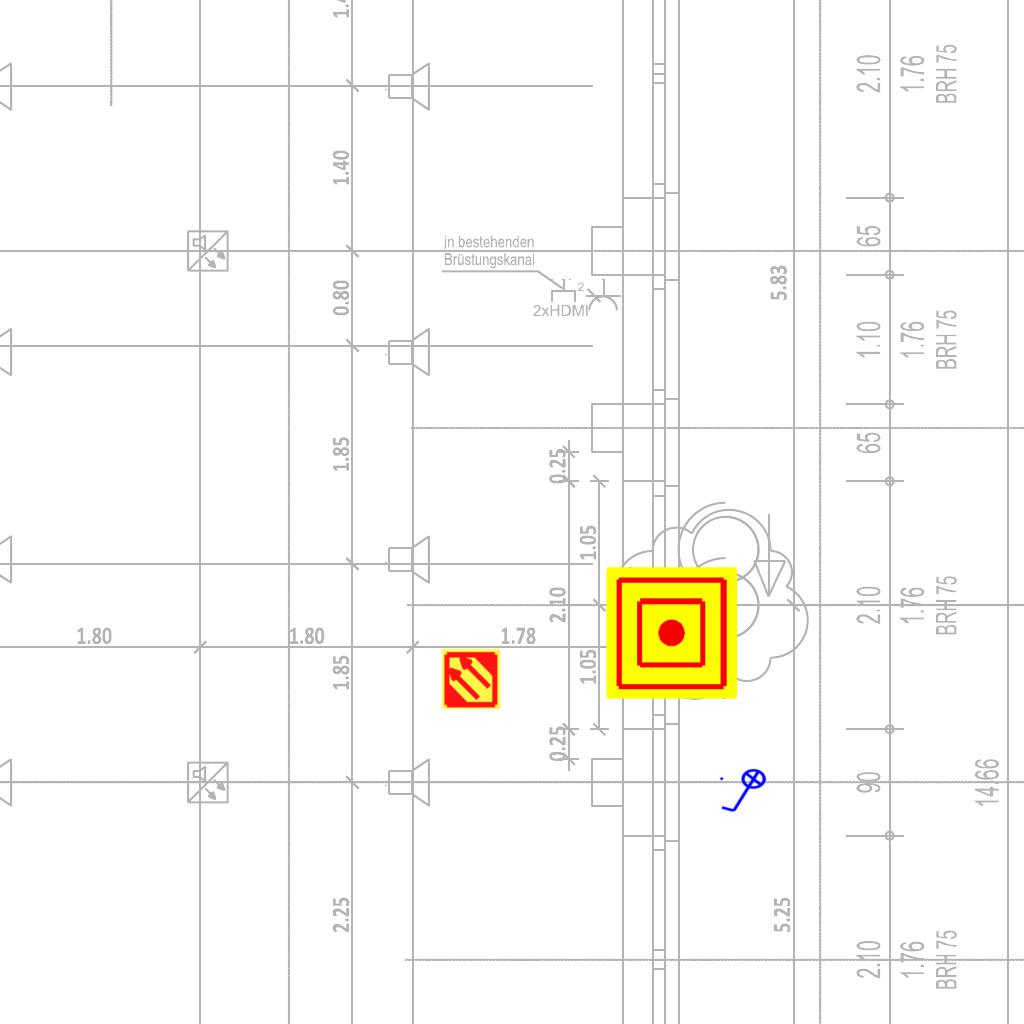ASR_Ansaugrauchmelder: (440, 648, 502, 710)
Ausschalter_beleuchtet: (717, 768, 773, 816)
NAM-Nichtautomatischer_Melder: (606, 567, 738, 699)
